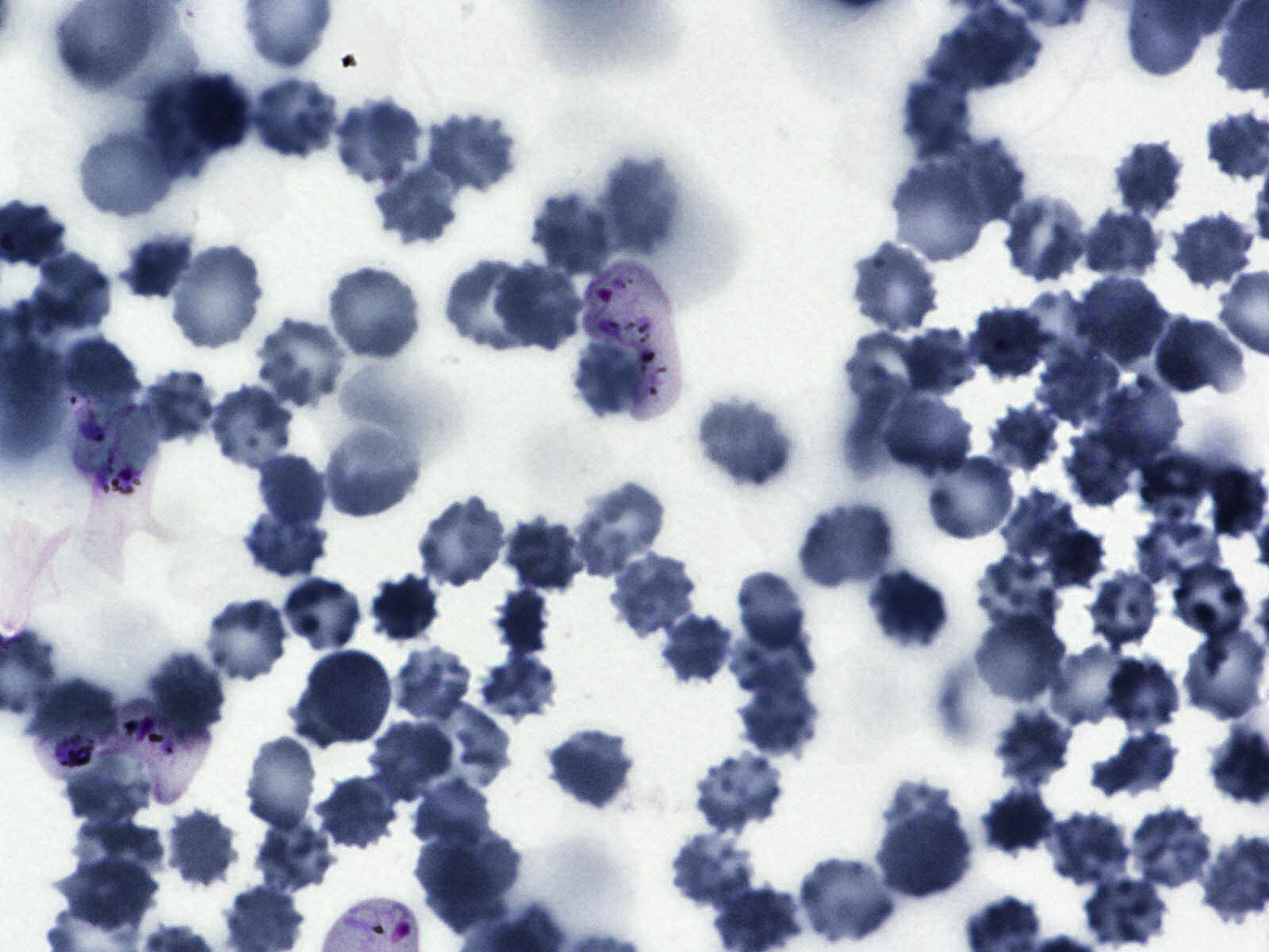Infected: (31, 701, 212, 800), (582, 255, 679, 417), (61, 390, 155, 504)
Uninfected: (165, 244, 265, 353), (324, 263, 424, 364), (443, 259, 546, 355), (892, 163, 987, 263), (415, 493, 510, 592), (408, 701, 509, 794), (795, 854, 897, 946), (252, 315, 349, 409), (849, 240, 942, 336), (875, 810, 972, 902), (971, 613, 1068, 705), (795, 502, 895, 591), (320, 426, 416, 517), (575, 484, 667, 577), (305, 650, 393, 747), (697, 401, 794, 489), (243, 734, 323, 838), (1095, 374, 1183, 468), (332, 98, 423, 188), (201, 596, 293, 685), (1000, 191, 1088, 284), (79, 129, 171, 217), (691, 751, 788, 832), (494, 263, 583, 351), (426, 108, 516, 195), (416, 828, 519, 904), (950, 2, 1043, 86), (1080, 274, 1166, 364), (1019, 289, 1110, 374), (605, 554, 697, 638), (974, 552, 1066, 636), (1151, 314, 1245, 396), (1033, 344, 1123, 429), (545, 727, 637, 810), (1184, 628, 1266, 721), (882, 395, 974, 477), (1047, 645, 1142, 724), (250, 73, 336, 160), (366, 720, 455, 804), (928, 455, 1017, 539), (864, 566, 950, 652), (29, 248, 114, 333), (943, 134, 1026, 221), (529, 193, 613, 278), (145, 650, 228, 735), (1170, 210, 1256, 291), (143, 82, 217, 176), (210, 385, 293, 468), (734, 679, 821, 758), (599, 158, 673, 250), (316, 774, 401, 854), (1168, 560, 1253, 640), (1043, 811, 1129, 889), (1129, 808, 1211, 889), (880, 782, 960, 864), (846, 332, 926, 414), (670, 833, 753, 912), (253, 814, 336, 893), (64, 750, 151, 825), (1134, 516, 1223, 589), (377, 164, 458, 244), (503, 516, 585, 595), (390, 644, 474, 721), (1086, 570, 1166, 650), (71, 821, 165, 889), (411, 778, 494, 854), (242, 506, 328, 579), (726, 624, 811, 697), (992, 710, 1075, 784), (477, 654, 561, 727), (899, 322, 983, 395), (1083, 875, 1169, 946), (1063, 432, 1141, 510), (1137, 448, 1213, 528), (657, 611, 734, 689), (366, 571, 444, 647), (252, 454, 330, 528), (1111, 139, 1183, 219), (972, 302, 1044, 382), (995, 490, 1073, 563), (168, 806, 239, 886), (1091, 731, 1177, 797), (283, 577, 359, 650), (65, 868, 150, 933), (903, 78, 974, 155), (180, 73, 251, 149), (1081, 209, 1159, 277), (983, 408, 1063, 474), (1101, 656, 1177, 724), (146, 369, 214, 445), (573, 346, 644, 418), (128, 232, 197, 305), (738, 572, 804, 647), (979, 790, 1052, 857), (64, 338, 141, 399), (1206, 466, 1266, 543), (1044, 526, 1105, 589), (496, 588, 552, 656)
